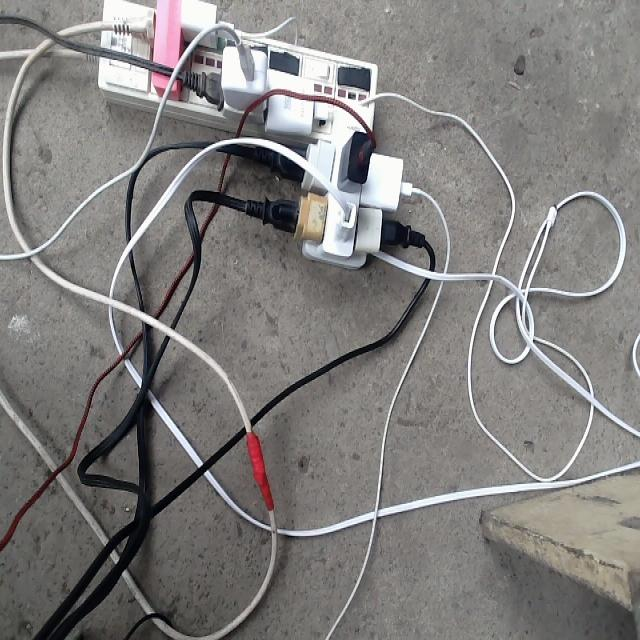-: (97, 0, 409, 267)
